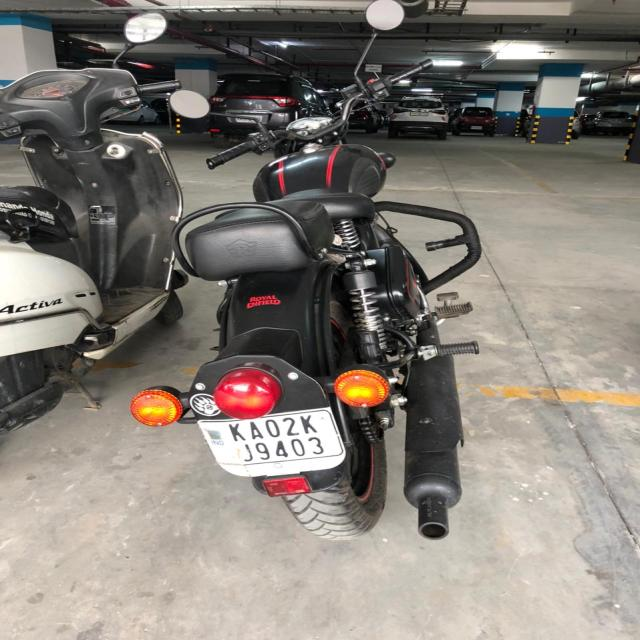license_plate: (196, 407, 346, 477)
